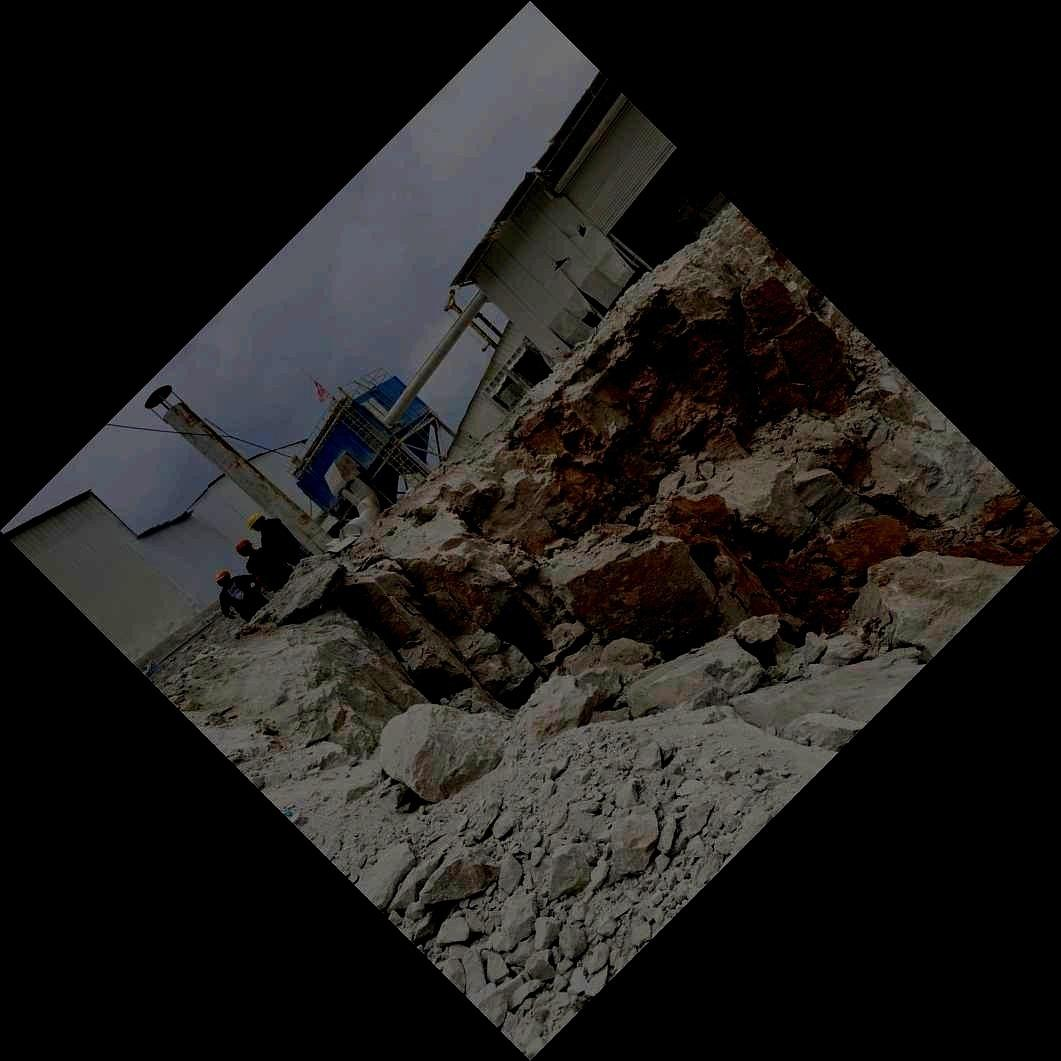helmet: (245, 512, 267, 533), (234, 539, 253, 558), (214, 570, 232, 588)
